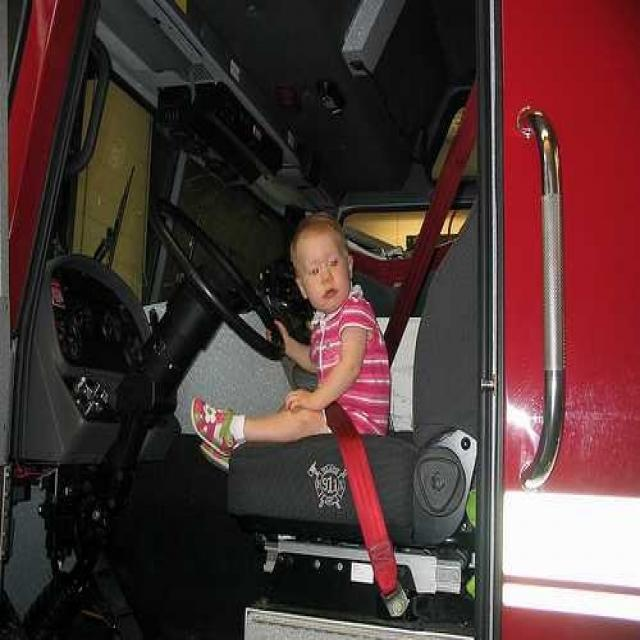seatbelt: (370, 102, 479, 346), (316, 384, 415, 618)
